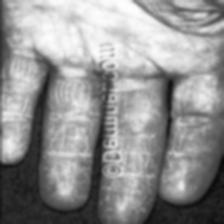Non-Cancerous Skin Condition: (48, 104, 90, 154), (128, 168, 152, 202)
